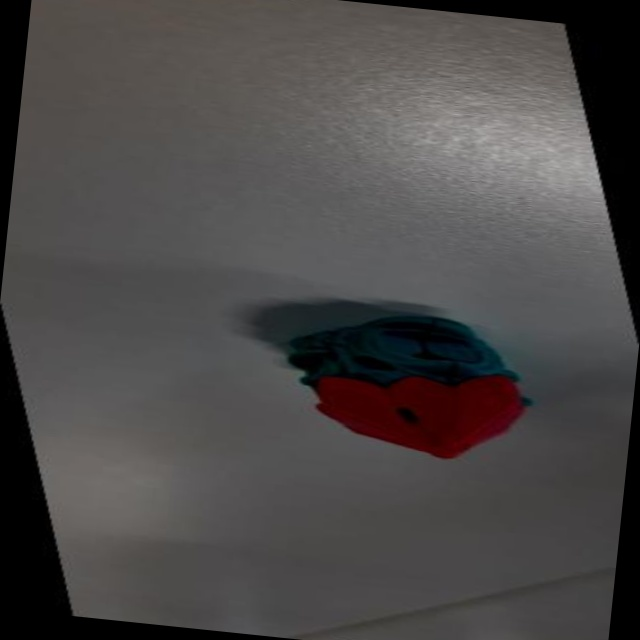House: (236, 290, 566, 490)
